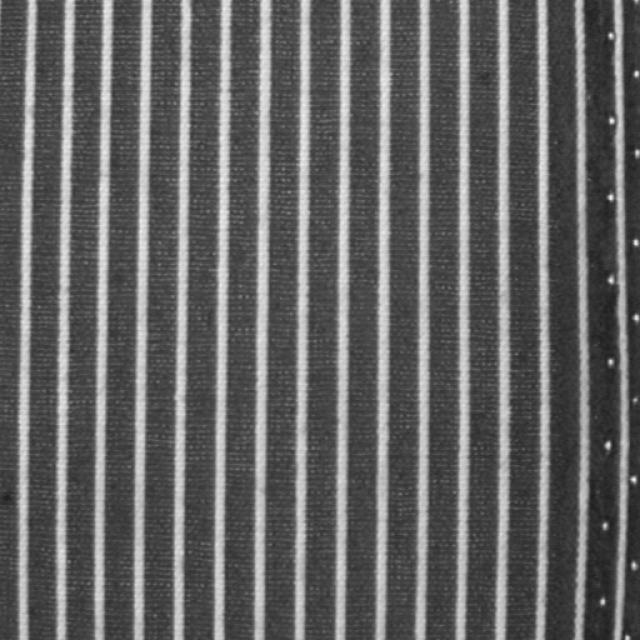Hole-Defect: (591, 0, 639, 639)
